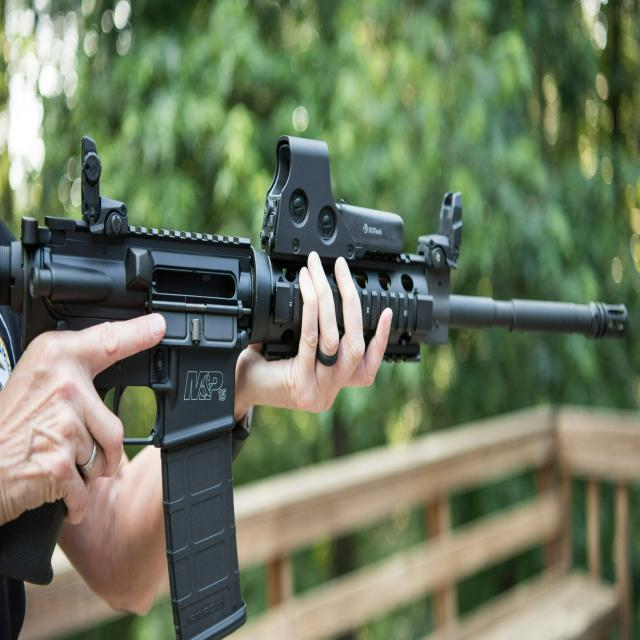Rifle: (0, 138, 629, 640)
